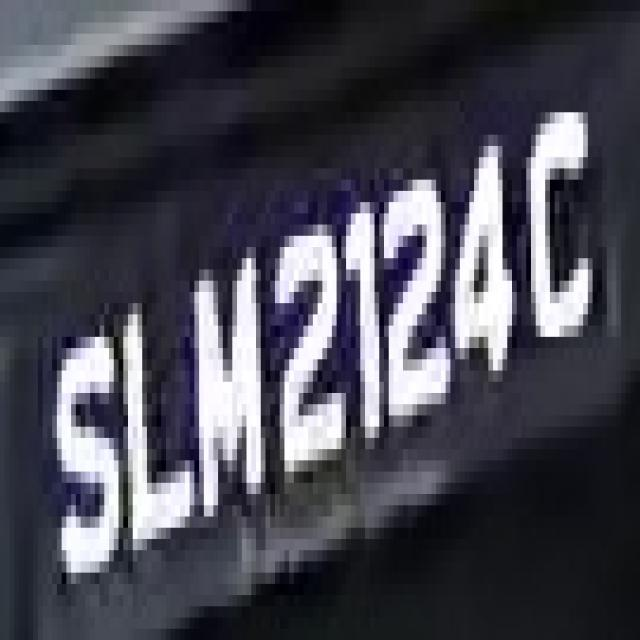1: (336, 157, 388, 483)
2: (261, 191, 351, 460), (374, 157, 460, 438)
4: (441, 135, 526, 404)
C: (517, 79, 602, 348)
L: (114, 247, 190, 550)
M: (175, 224, 275, 516)
S: (47, 303, 128, 595)
